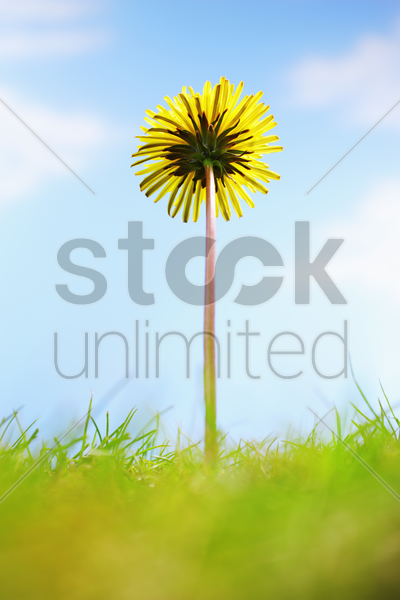dandelion: (138, 63, 277, 231)
